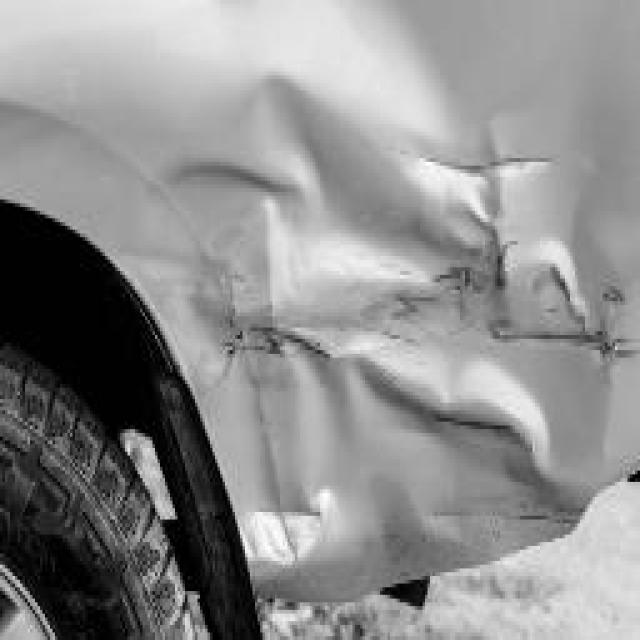Bumper: (138, 4, 640, 599)
